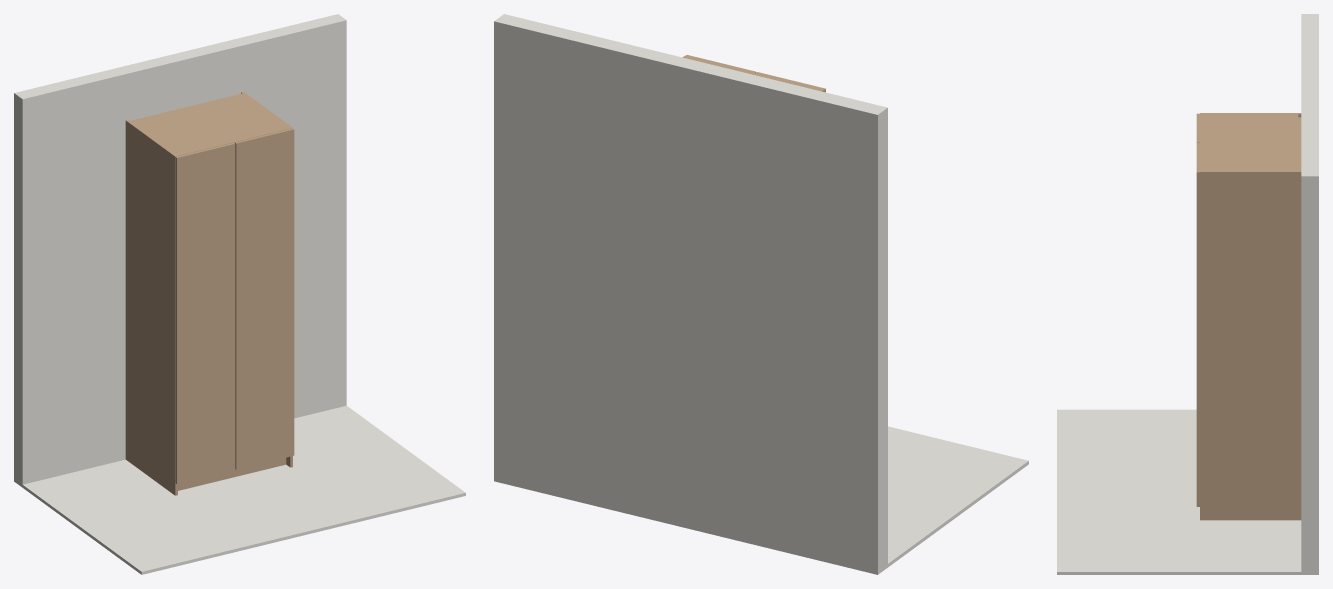
The model's file is a-qsbg2u.glb.
The picture shows the model from 3 angles, left to right: view 1: azimuth 30°, elevation 25°; view 2: azimuth 150°, elevation 25°; view 3: azimuth 270°, elevation 25°; orthographic projection. The views are drawn at different scales.
Parts seen in each view (by area): view 1: Room: Back wall, Room: Floor, Wardrobe: Door, left (hinged left), Wardrobe: Door, right (hinged right), Wardrobe: Side, left, Wardrobe: Top, Wardrobe: Plinth; view 2: Room: Back wall, Room: Floor; view 3: Wardrobe: Side, right, Room: Floor, Room: Back wall, Wardrobe: Top, Wardrobe: Door, right (hinged right).
Part boxes in pixels (x1,y1,x2,y2): Room: Back wall: [14, 14, 346, 484]; Room: Floor: [14, 405, 465, 574]; Wardrobe: Door, left (hinged left): [175, 142, 235, 483]; Wardrobe: Door, right (hinged right): [234, 128, 294, 469]; Wardrobe: Side, left: [125, 119, 177, 495]; Wardrobe: Top: [130, 93, 290, 155]; Wardrobe: Plinth: [178, 457, 286, 490]; Room: Back wall: [494, 14, 887, 571]; Room: Floor: [494, 426, 1028, 574]; Wardrobe: Side, right: [1200, 170, 1301, 520]; Room: Floor: [1057, 409, 1318, 574]; Room: Back wall: [1301, 14, 1318, 571]; Wardrobe: Top: [1200, 114, 1298, 170]; Wardrobe: Door, right (hinged right): [1196, 143, 1199, 506].
Bounding box in the file's own units: 2.2 × 2.52 × 1.5.
